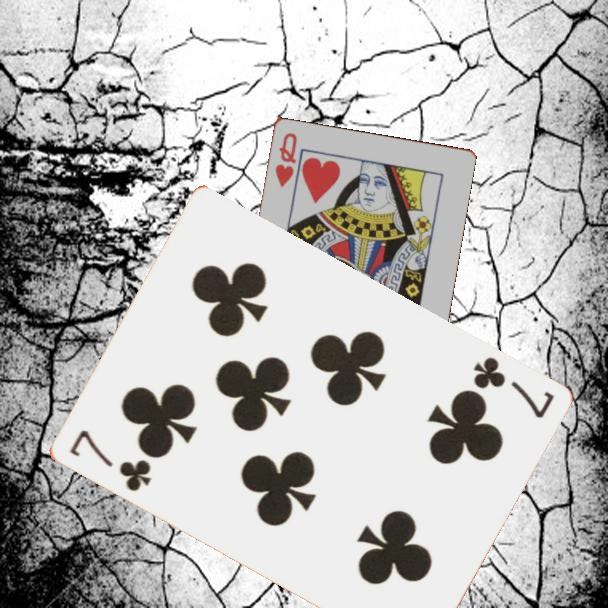c07: (65, 426, 154, 495), (469, 353, 557, 422)
h12: (271, 129, 300, 190)
